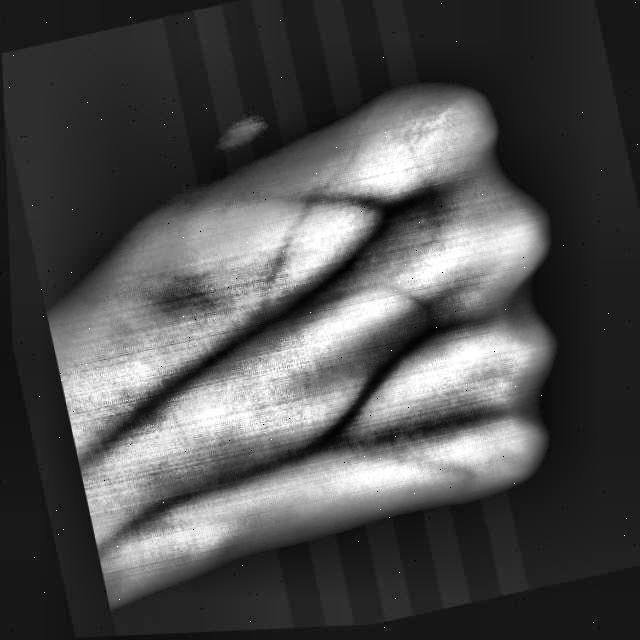Vein: (177, 249, 356, 393)
